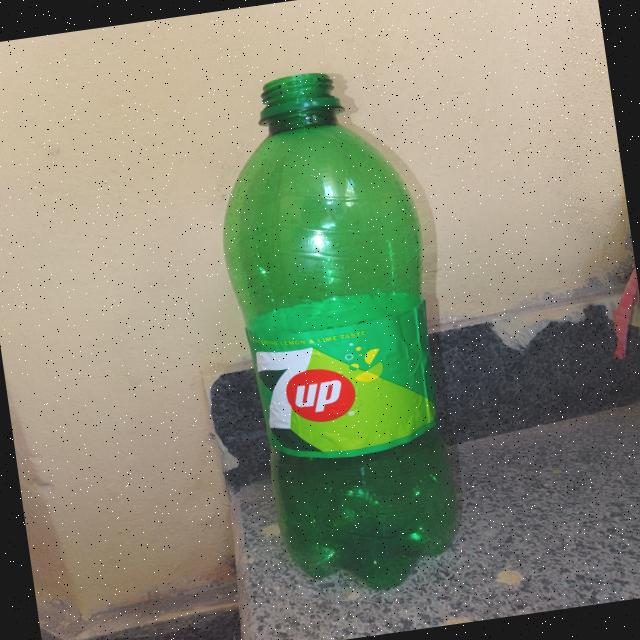bottle: (182, 39, 522, 612)
label: (241, 306, 456, 479)
